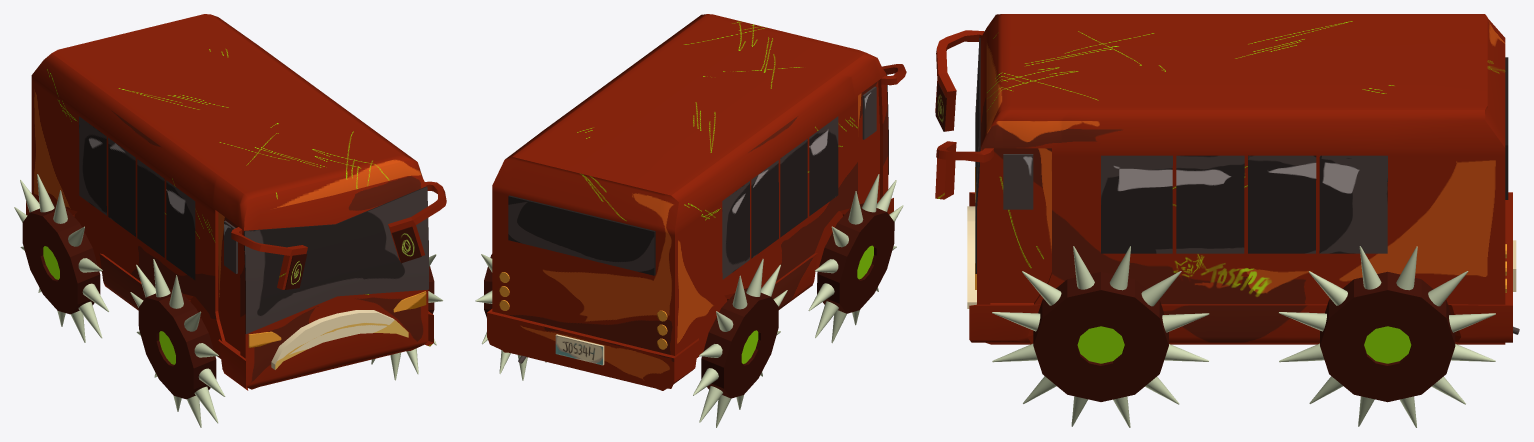
The model's file is bossFBX.fbx.
The picture shows the model from 3 angles, left to right: view 1: azimuth 30°, elevation 25°; view 2: azimuth 150°, elevation 25°; view 3: azimuth 270°, elevation 25°; orthographic projection. The views are drawn at different scales.
Visible parts, largest first — view 1: bossFBX:busFrame, bossFBX:frontWindow, bossFBX:outerTire (×2), bossFBX:sideWindows, bossFBX:busFrame1, bossFBX:eyes, bossFBX:headlights, bossFBX:doorWindow; view 2: bossFBX:busFrame, bossFBX:outerTire (×2), bossFBX:sideWindows, bossFBX:backwindow, bossFBX:licensePlate, bossFBX:doorWindow; view 3: bossFBX:busFrame, bossFBX:sideWindows, bossFBX:outerTire (×2), bossFBX:innerTire (×2), bossFBX:doorWindow, bossFBX:busFrame1, bossFBX:frontWindow, bossFBX:backwindow.
Boxes of the visible parts, bbox=[...] form: bossFBX:busFrame: bbox=[26, 14, 446, 390]; bossFBX:frontWindow: bbox=[244, 186, 428, 334]; bossFBX:outerTire (×2): bbox=[22, 203, 216, 399]; bossFBX:sideWindows: bbox=[79, 116, 195, 279]; bossFBX:busFrame1: bbox=[271, 310, 408, 369]; bossFBX:eyes: bbox=[285, 226, 421, 289]; bossFBX:headlights: bbox=[248, 291, 426, 347]; bossFBX:doorWindow: bbox=[224, 220, 237, 273]; bossFBX:busFrame: bbox=[487, 14, 906, 390]; bossFBX:outerTire (×2): bbox=[701, 203, 894, 398]; bossFBX:sideWindows: bbox=[722, 116, 838, 279]; bossFBX:backwindow: bbox=[508, 195, 655, 275]; bossFBX:licensePlate: bbox=[555, 334, 604, 365]; bossFBX:doorWindow: bbox=[862, 86, 876, 139]; bossFBX:busFrame: bbox=[935, 14, 1512, 344]; bossFBX:sideWindows: bbox=[1101, 155, 1387, 253]; bossFBX:outerTire (×2): bbox=[1033, 271, 1455, 402]; bossFBX:innerTire (×2): bbox=[1077, 326, 1411, 363]; bossFBX:doorWindow: bbox=[1003, 154, 1033, 209]; bossFBX:busFrame1: bbox=[967, 206, 976, 308]; bossFBX:frontWindow: bbox=[975, 38, 980, 273]; bossFBX:backwindow: bbox=[1505, 57, 1508, 199].
Bounding box in the file's own units: 1427 × 1333 × 2288.
